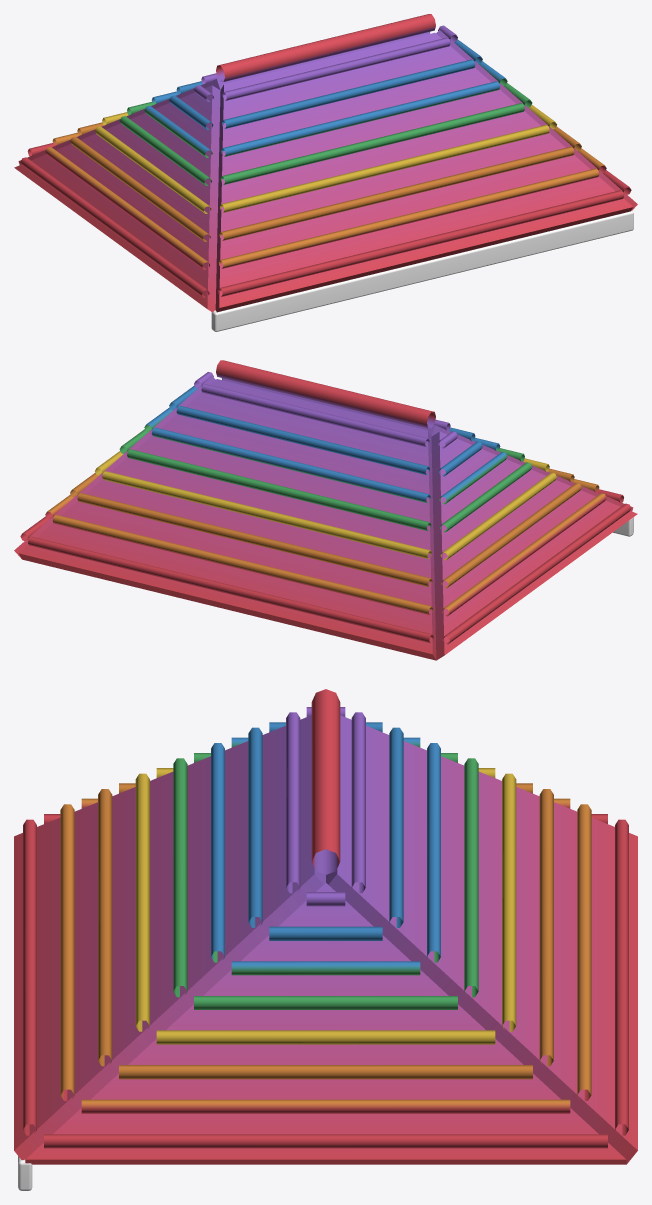
The model's file is house_roof_tiled_rainbow.glb.
3 views of the same model, one above another, from view 1: azimuth 30°, elevation 25°; view 2: azimuth 150°, elevation 25°; view 3: azimuth 270°, elevation 25° (orthographic). The views are drawn at different scales.
Parts seen in each view (by area): view 1: house_roof_tiled_rainbow_house_roof_rainbow, house_roof_tiled_rainbow_house_trim; view 2: house_roof_tiled_rainbow_house_roof_rainbow; view 3: house_roof_tiled_rainbow_house_roof_rainbow.
Part boxes in pixels (x1=…): house_roof_tiled_rainbow_house_roof_rainbow: x1=14, y1=14, x2=637, y2=312; house_roof_tiled_rainbow_house_trim: x1=211, y1=210, x2=633, y2=331; house_roof_tiled_rainbow_house_roof_rainbow: x1=14, y1=360, x2=637, y2=660; house_roof_tiled_rainbow_house_roof_rainbow: x1=14, y1=689, x2=637, y2=1164.
Bounding box in the file's own units: 3.26 × 1.23 × 2.63.
